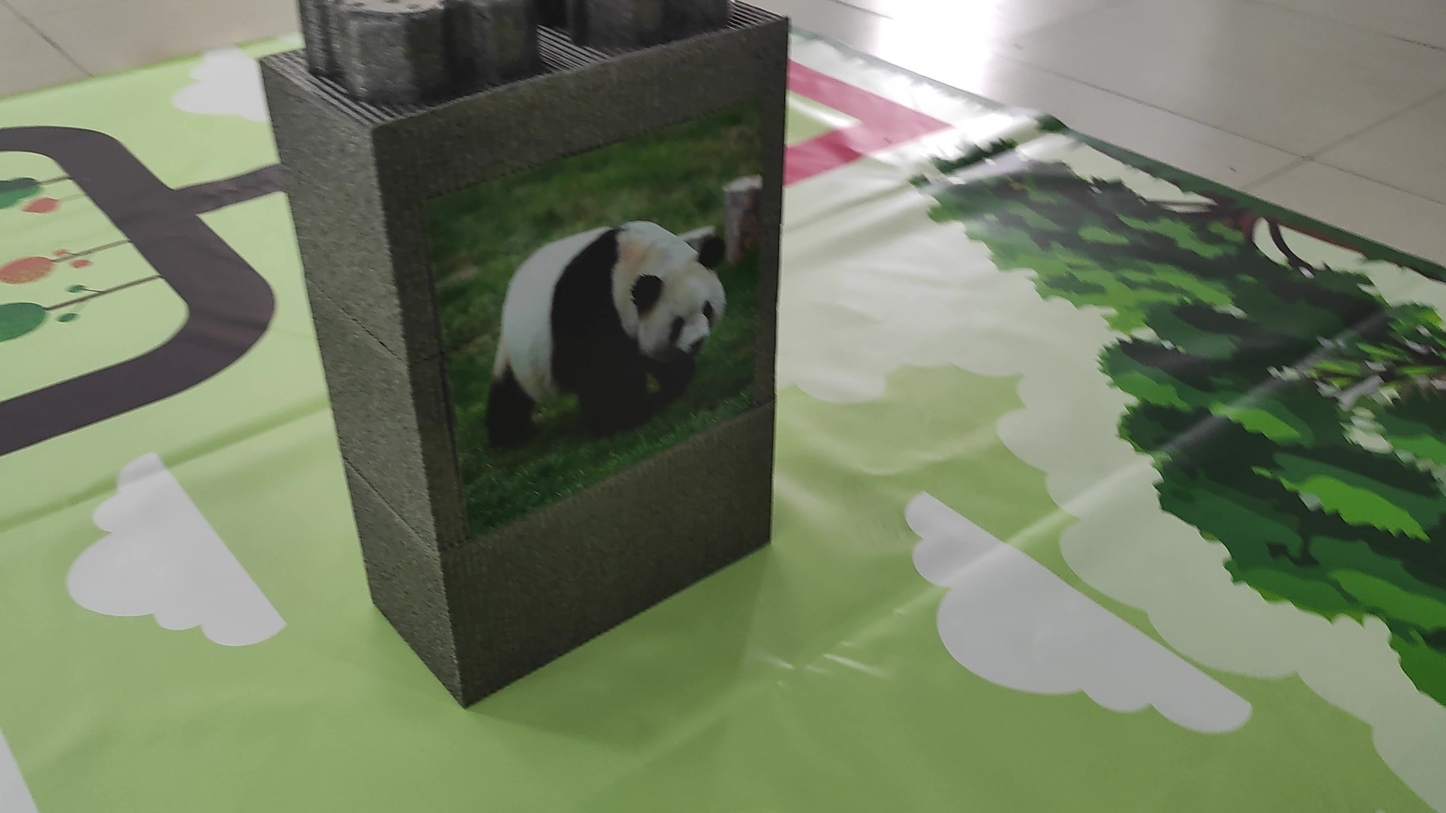panda: (455, 206, 760, 442)
